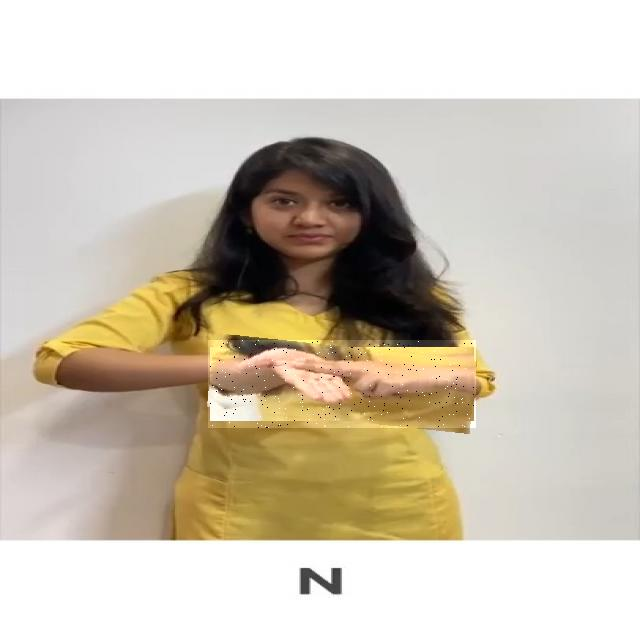N: (208, 340, 476, 428)
